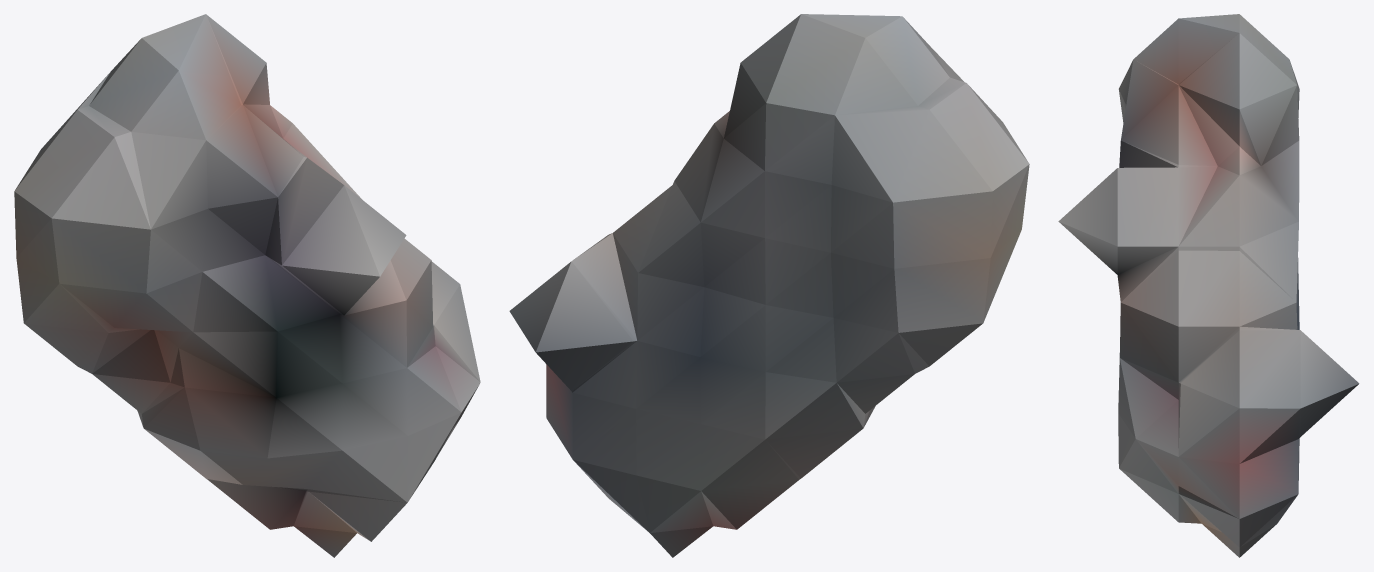
The model's file is 000003_us car_old_vintage_12288_16.glb.
The picture shows the model from 3 angles, left to right: view 1: azimuth 30°, elevation 25°; view 2: azimuth 150°, elevation 25°; view 3: azimuth 270°, elevation 25°; orthographic projection. The views are drawn at different scales.
Visible parts, largest first — view 1: world; view 2: world; view 3: world.
Part boxes in pixels (box(x1,y1,x2,y2)): world: box(14, 14, 480, 557); world: box(509, 14, 1029, 557); world: box(1058, 14, 1359, 557).
Size of the model in its own units: 0.8073 by 0.9934 by 0.5728.
